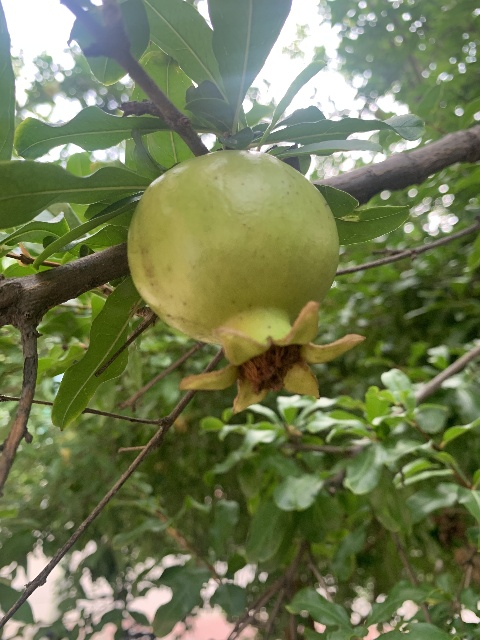mid-growth: (126, 149, 364, 416)
